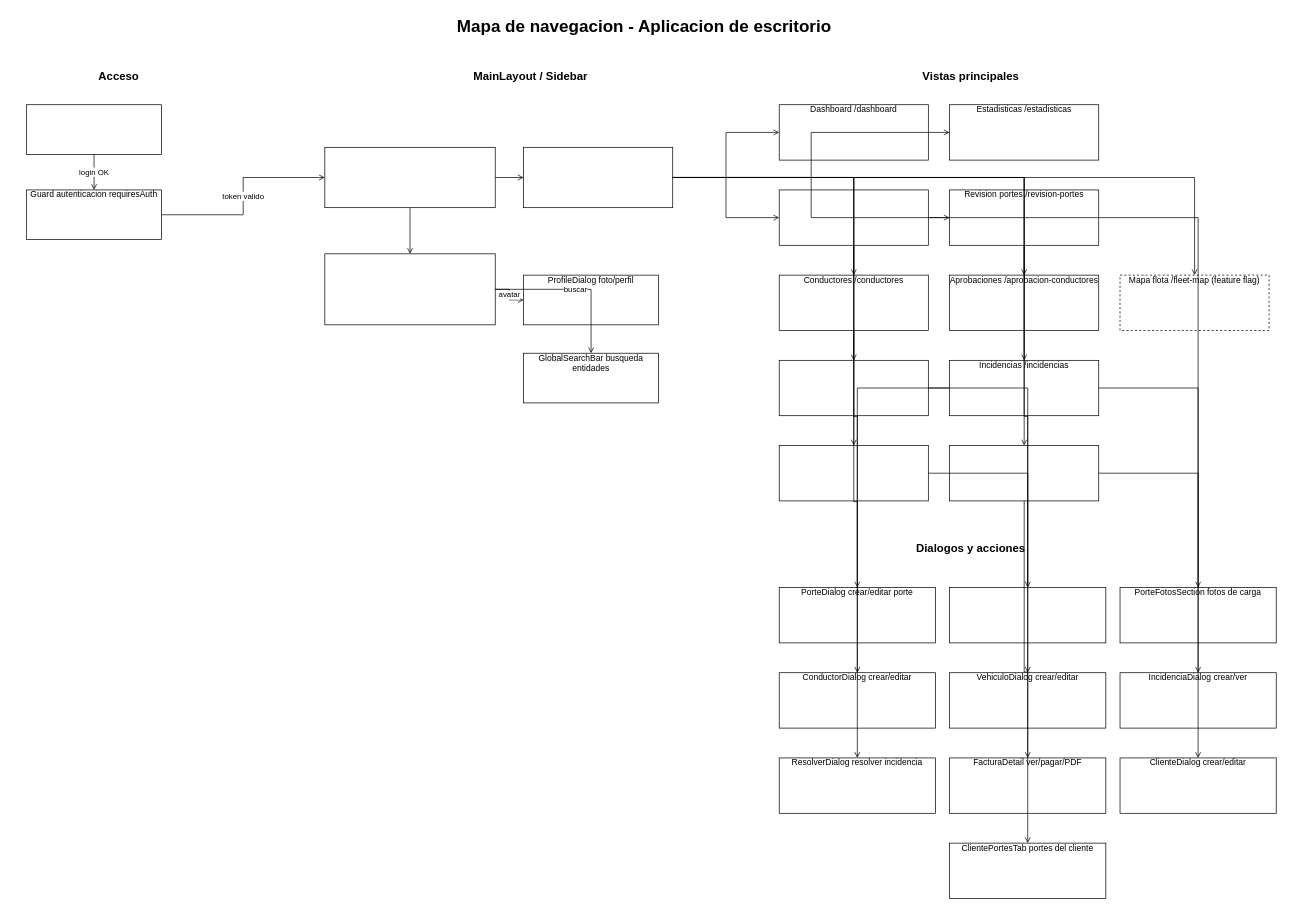
This 1289x911 diagram has some shape labels left out. The shapes that lost their labels are listed below. From the top down, each one's box as (x1, y1, x2, y2) in pixels, then its label:
(26, 104, 162, 154): LoginView /login
(324, 147, 495, 208): MainLayout Sidebar + TopBar
(523, 147, 673, 208): Sidebar Menu principal
(779, 189, 928, 245): Portes /portes
(324, 253, 495, 325): TopBar Busqueda global Perfil Tema/idioma
(779, 360, 928, 416): Vehiculos /vehiculos
(779, 445, 928, 501): Facturas /facturas
(949, 445, 1099, 501): Clientes /clientes
(949, 587, 1106, 643): RevisionPorteDialog validar carga
